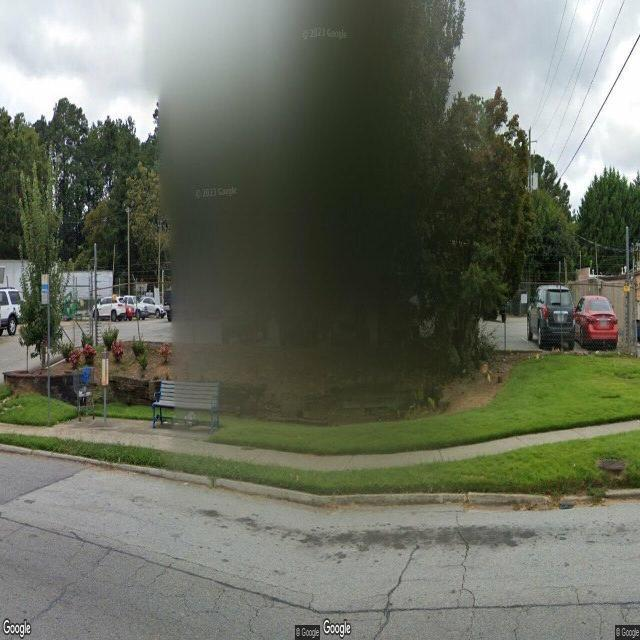seating: (152, 381, 222, 432)
